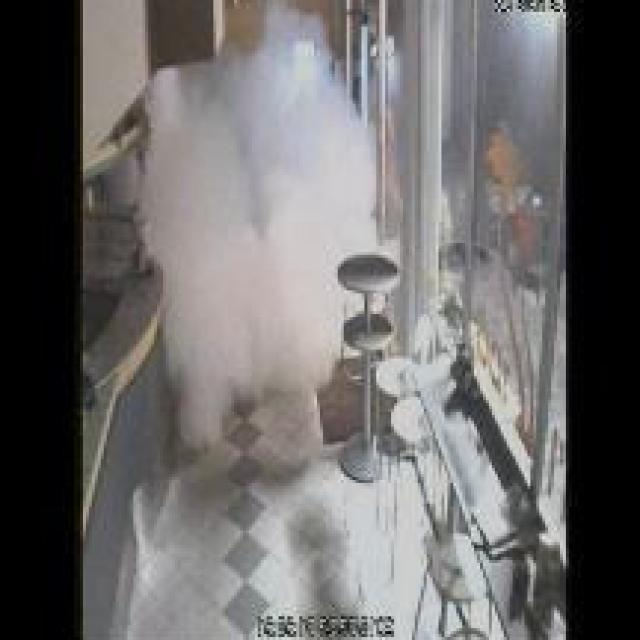fire: (135, 43, 378, 446)
